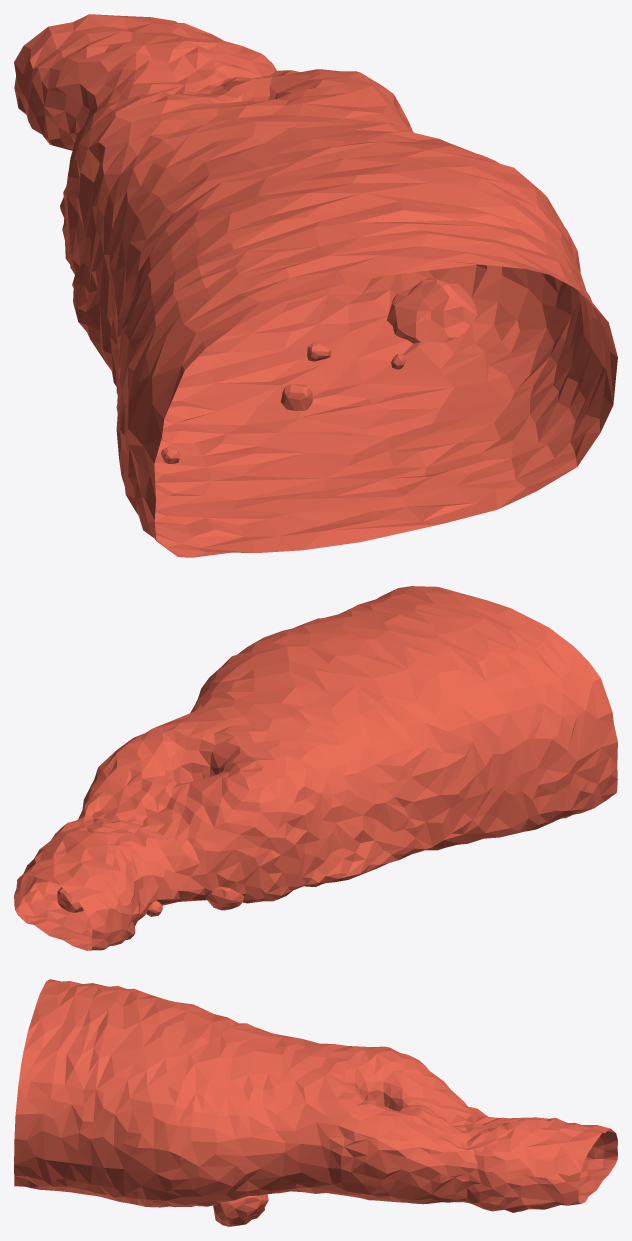
File: cave1.fbx
3 renders of one model, top to bottom at view 1: azimuth 30°, elevation 25°; view 2: azimuth 150°, elevation 25°; view 3: azimuth 270°, elevation 25°, orthographic. The views are drawn at different scales.
Parts seen in each view (by area): view 1: Cave; view 2: Cave; view 3: Cave.
Boxes of the visible parts, x1,y1,x2,y2 form: Cave: (14, 14, 617, 557); Cave: (14, 586, 617, 950); Cave: (14, 979, 617, 1226).
Size of the model in its own units: 4587 by 2334 by 7891.
